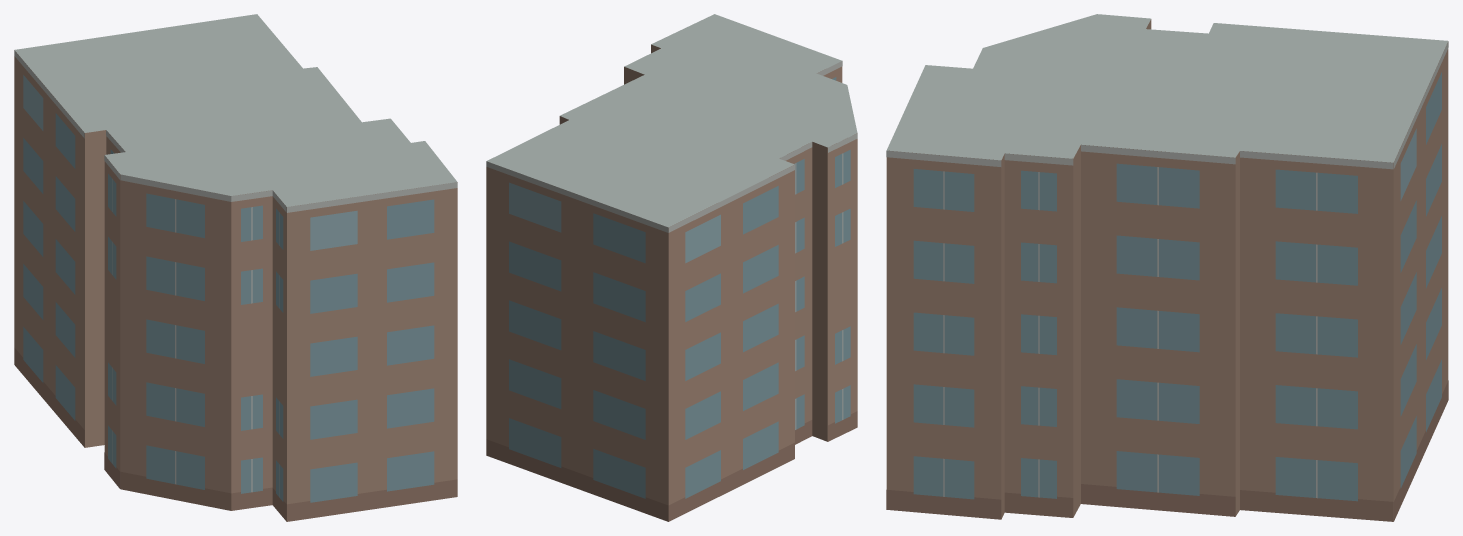
File: survey-upis-32957386.glb
The picture shows the model from 3 angles, left to right: view 1: azimuth 30°, elevation 25°; view 2: azimuth 150°, elevation 25°; view 3: azimuth 270°, elevation 25°; orthographic projection. The views are drawn at different scales.
Parts seen in each view (by area): view 1: survey-upis-32957386.tmp; view 2: survey-upis-32957386.tmp; view 3: survey-upis-32957386.tmp.
Part boxes in pixels (x1,y1,x2,y2): survey-upis-32957386.tmp: [14, 14, 457, 521]; survey-upis-32957386.tmp: [486, 14, 857, 521]; survey-upis-32957386.tmp: [886, 14, 1448, 521].
Bounding box in the file's own units: 11.55 × 13 × 18.44.
